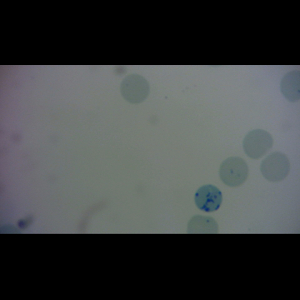aggregate reticulocyte: (193, 184, 223, 213)
erythrocyte: (241, 128, 275, 160), (259, 151, 292, 183)
punctate reticulocyte: (118, 73, 151, 104), (218, 156, 249, 188)
